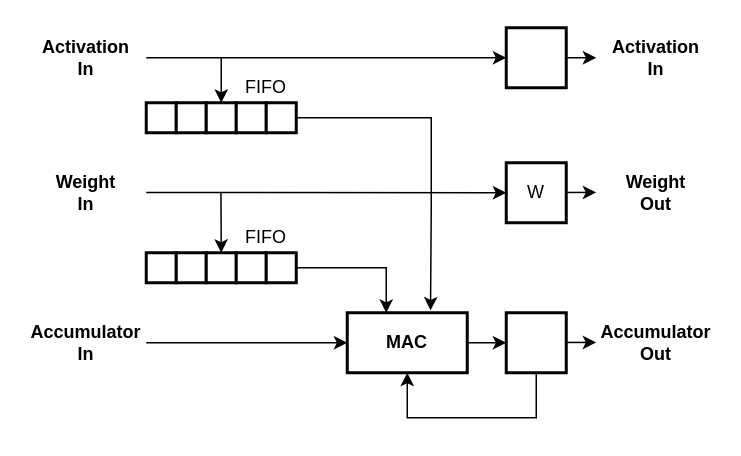
Some shapes in this 741 by 456 pixel diagram are drawn without their labels. Each missing label, with the centre of its shape:
"Acc" goes at point 535,342.
"Act" goes at point 535,57.
